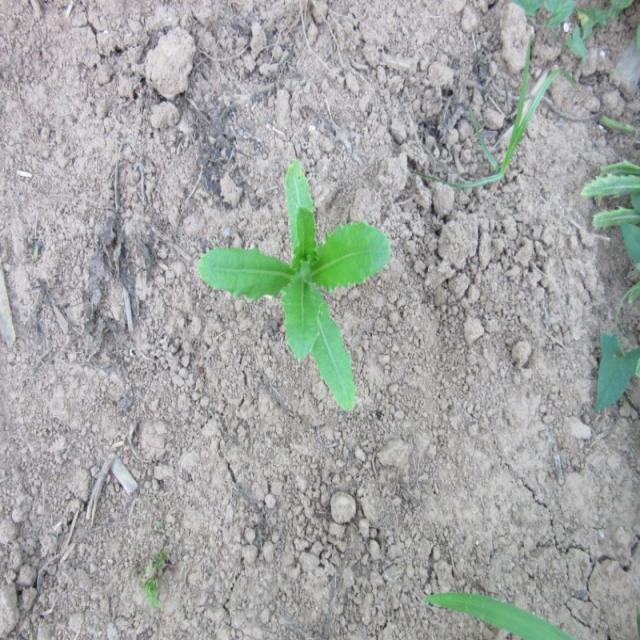cs: (195, 160, 392, 415)
